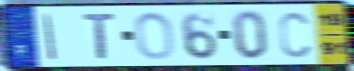0: (231, 8, 270, 62)
6: (180, 10, 219, 61)
C: (277, 10, 312, 59)
I: (42, 12, 58, 61)
O: (133, 10, 176, 61)
T: (82, 12, 118, 61)
